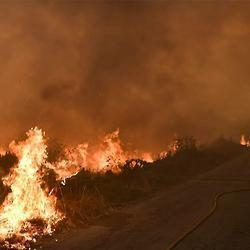fire: (6, 138, 53, 229), (65, 146, 122, 170)
